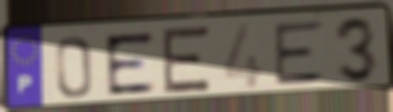0: (52, 34, 94, 100)
3: (333, 14, 380, 86)
4: (221, 22, 266, 91)
E: (101, 29, 158, 98), (272, 18, 328, 88), (161, 24, 214, 96)
